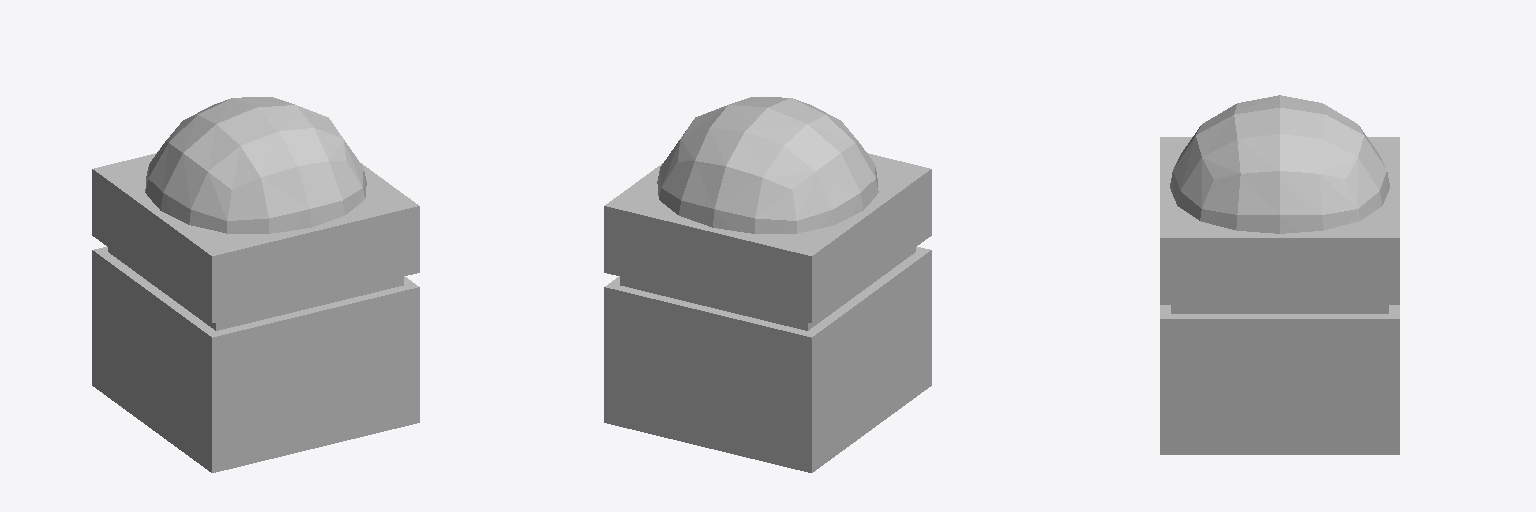
File: roof.obj
3 views of the same model, side by side, from view 1: azimuth 30°, elevation 25°; view 2: azimuth 150°, elevation 25°; view 3: azimuth 270°, elevation 25° (orthographic).
Size of the model in its own units: 1 by 1.37 by 1.